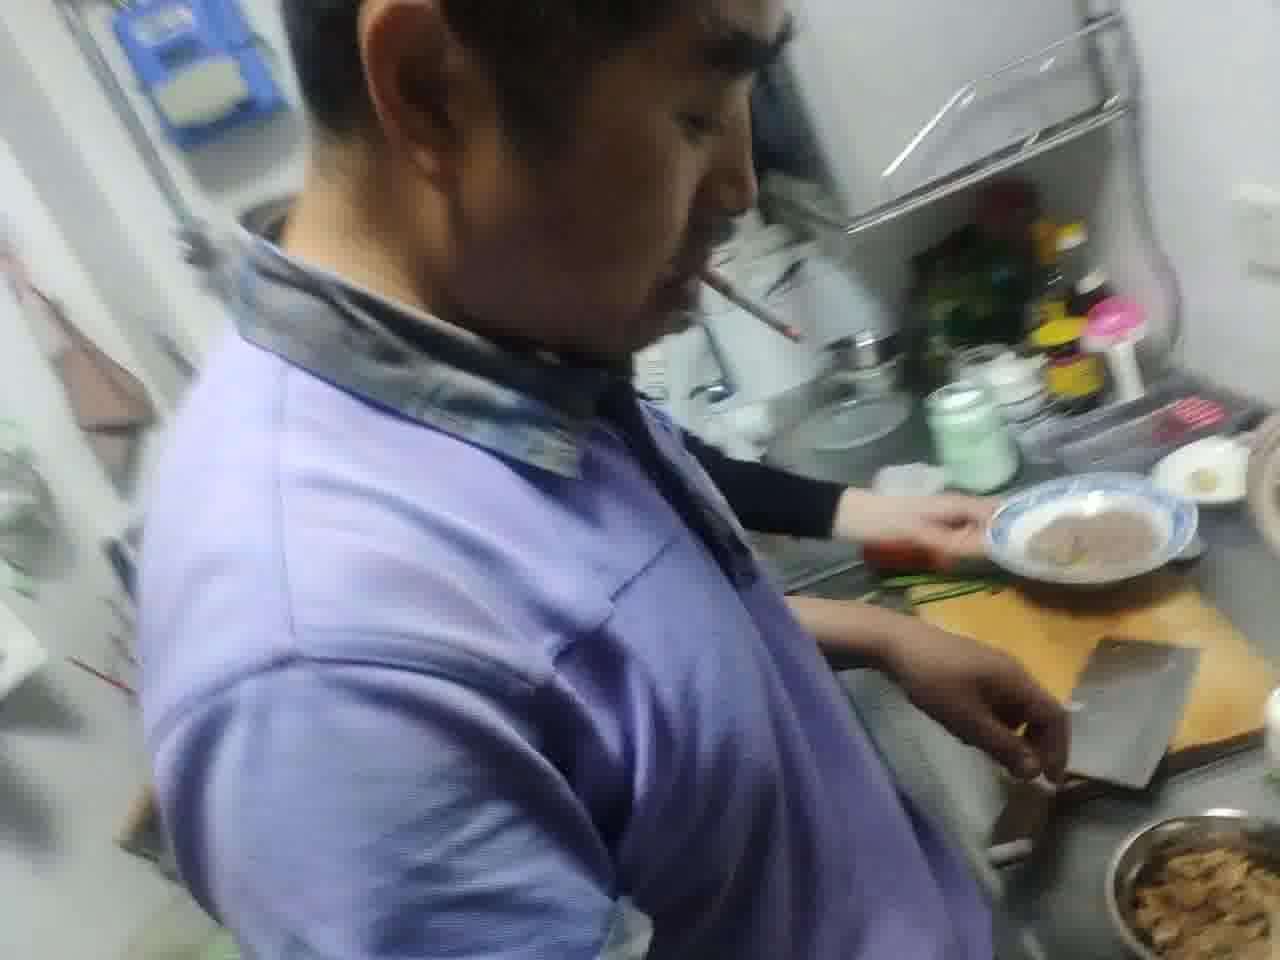smoke: (693, 260, 803, 345)
